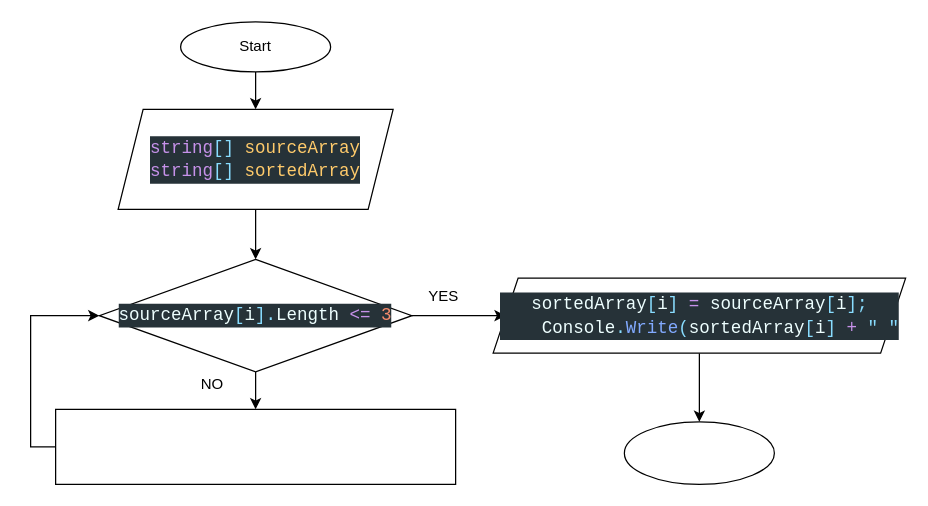
Image size: 928x506. Some labels were removed from this diagram. Here are the shapes that lost their labels. From the top down, the centre of each, then its label:
At pixel 255 446: "int i = 0 ; i < sourceArray . Length ; i ++".
At pixel 698 452: "END".
